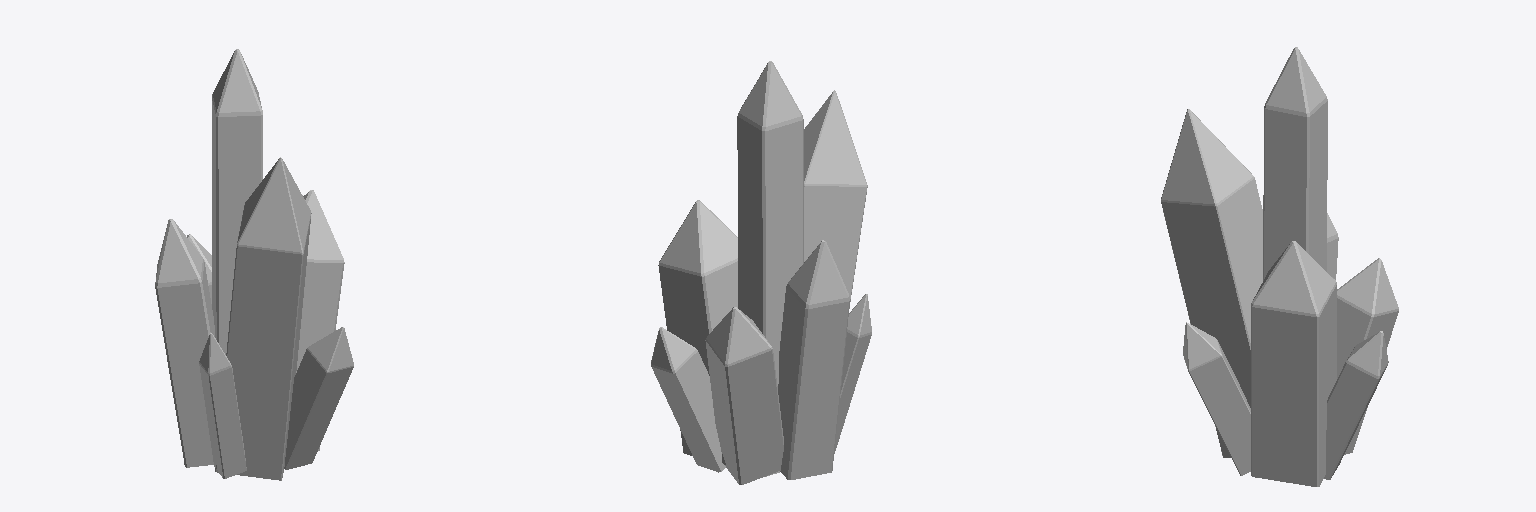
File: celestial_prism.obj
The picture shows the model from 3 angles: view 1: azimuth 30°, elevation 25°; view 2: azimuth 150°, elevation 25°; view 3: azimuth 270°, elevation 25°; orthographic projection.
Visible parts, largest first — view 1: celestial_prism.002; view 2: celestial_prism.002; view 3: celestial_prism.002.
Part boxes in pixels (x1,y1,x2,y2): celestial_prism.002: (155, 49, 353, 480); celestial_prism.002: (651, 61, 871, 484); celestial_prism.002: (1161, 47, 1398, 486).
Size of the model in its own units: 0.4406 by 0.9386 by 0.4997.